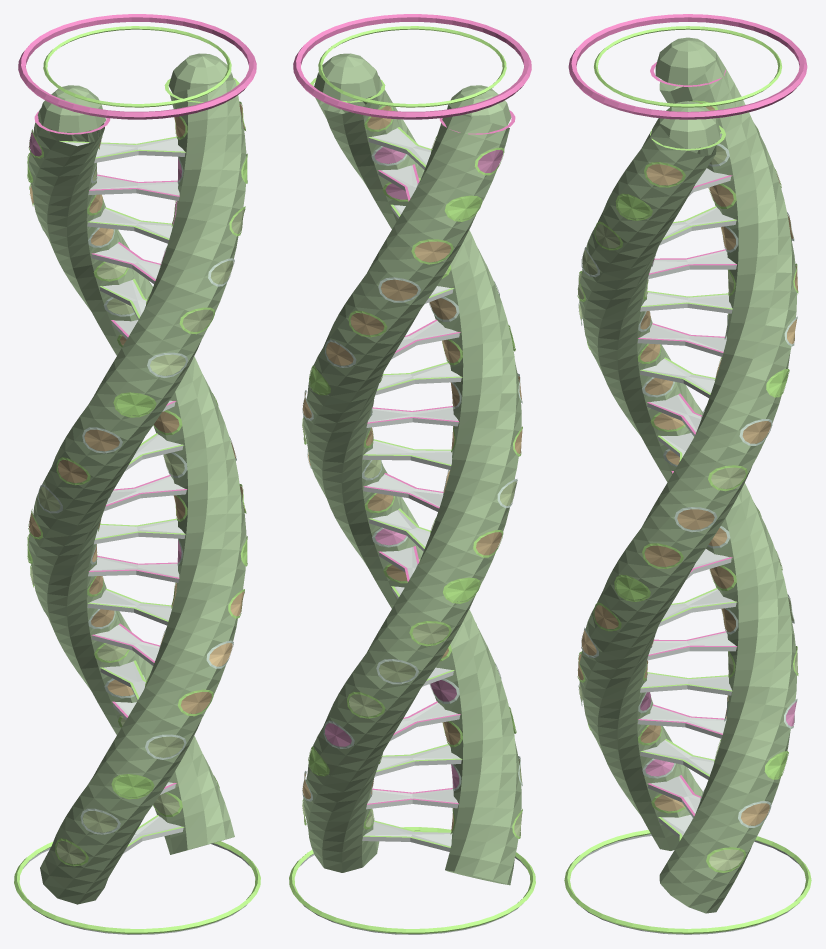
Rendered from solace_hq.glb.
The picture shows the model from 3 angles, left to right: view 1: azimuth 30°, elevation 25°; view 2: azimuth 150°, elevation 25°; view 3: azimuth 270°, elevation 25°; orthographic projection.
Visible parts, largest first — view 1: solace_hq__lit, solace_hq__neon, solace_hq__solid, solace_hq__win; view 2: solace_hq__lit, solace_hq__neon, solace_hq__solid, solace_hq__win; view 3: solace_hq__lit, solace_hq__neon, solace_hq__solid, solace_hq__win.
Part boxes in pixels (x1,y1,x2,y2): solace_hq__lit: [28, 53, 246, 904]; solace_hq__neon: [14, 14, 260, 933]; solace_hq__solid: [23, 137, 252, 934]; solace_hq__win: [29, 104, 245, 863]; solace_hq__lit: [303, 53, 521, 885]; solace_hq__neon: [289, 14, 535, 933]; solace_hq__solid: [297, 128, 526, 934]; solace_hq__win: [302, 106, 522, 836]; solace_hq__lit: [579, 37, 797, 913]; solace_hq__neon: [564, 14, 811, 933]; solace_hq__solid: [573, 133, 802, 934]; solace_hq__win: [578, 103, 797, 870].
Size of what is drawn, in the model's own units: 24.66 by 90.36 by 24.66.
